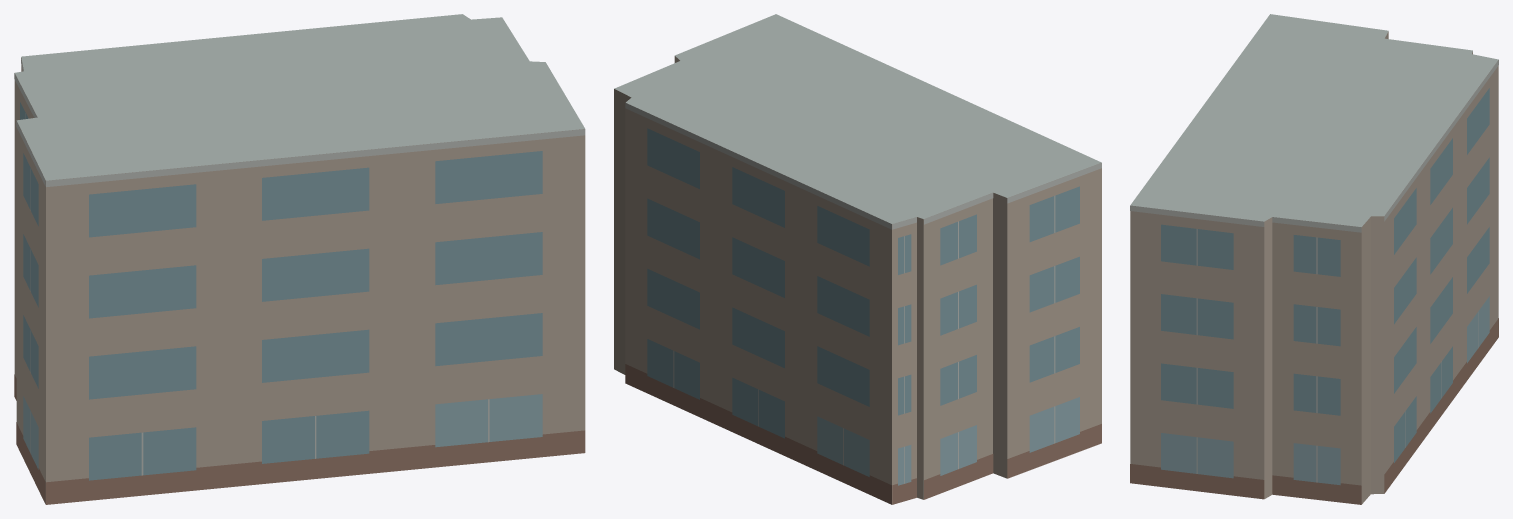
The model's file is survey-upis-32564877.glb.
3 renders of one model, left to right at view 1: azimuth 30°, elevation 25°; view 2: azimuth 150°, elevation 25°; view 3: azimuth 270°, elevation 25°, orthographic. The views are drawn at different scales.
Parts seen in each view (by area): view 1: survey-upis-32564877.tmp; view 2: survey-upis-32564877.tmp; view 3: survey-upis-32564877.tmp.
Boxes of the visible parts, x1,y1,x2,y2 form: survey-upis-32564877.tmp: (14, 14, 585, 504); survey-upis-32564877.tmp: (614, 14, 1101, 504); survey-upis-32564877.tmp: (1130, 14, 1498, 504).
Size of the model in its own units: 20.09 by 12.2 by 14.69.
